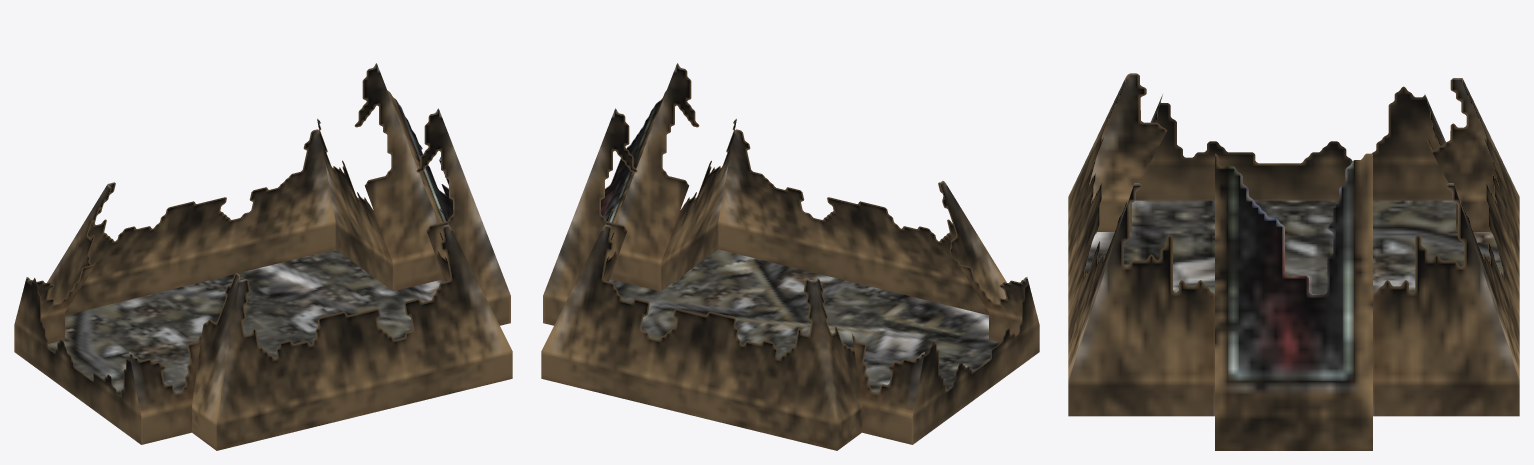
Rendered from hpg_office_dam.glb.
3 views of the same model, side by side, from view 1: azimuth 30°, elevation 25°; view 2: azimuth 150°, elevation 25°; view 3: azimuth 270°, elevation 25° (orthographic). The views are drawn at different scales.
Visible parts, largest first — view 1: HPG_OfficeDam; view 2: HPG_OfficeDam; view 3: HPG_OfficeDam.
Part boxes in pixels (x1=…): HPG_OfficeDam: x1=14, y1=63, x2=512, y2=450; HPG_OfficeDam: x1=541, y1=63, x2=1039, y2=450; HPG_OfficeDam: x1=1068, y1=73, x2=1519, y2=450.
Bounding box in the file's own units: 23.44 × 15.94 × 17.85.
3 materials, 3 textured.
